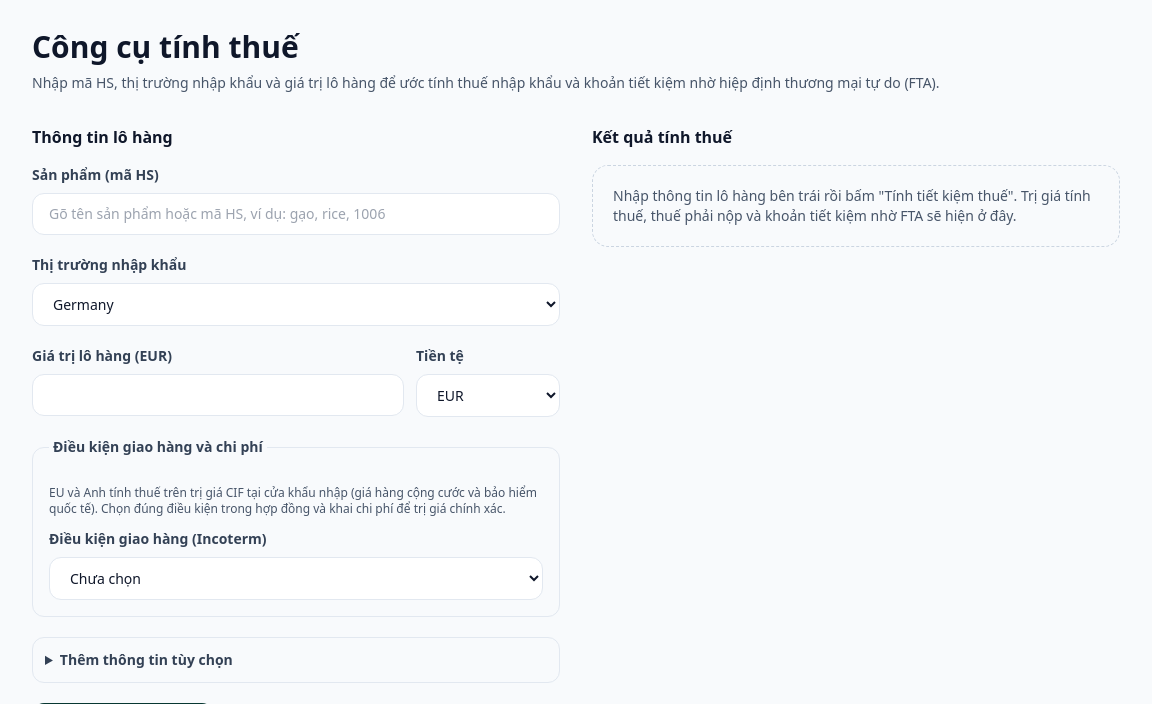
Test: Máy tính thuế: trị giá tính thuế (C2-A) › gửi Incoterm, cước, bảo hiểm và tiền tệ (chỉ khi khác EUR)
Type "ca tra" into the dropdown labelled "Sản phẩm (mã HS)". click: [296, 214]
box: [32,193,560,235]
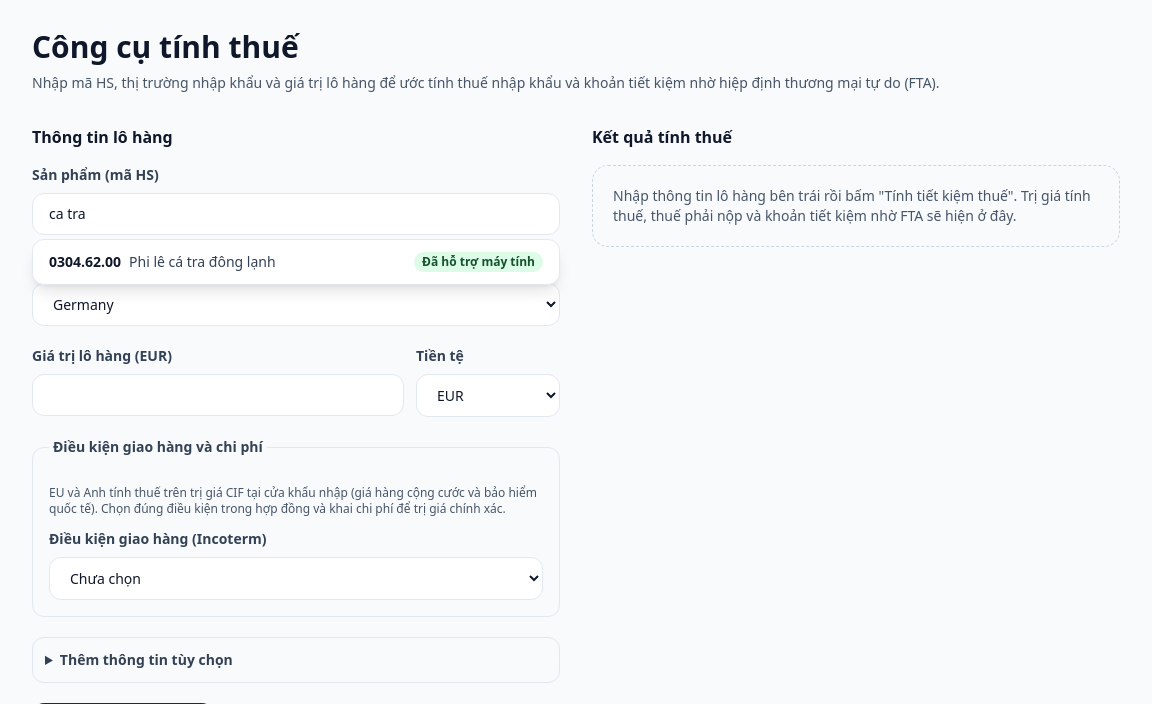
Click the option "0304.62.00Phi lê cá tra đông lạnh Đã hỗ trợ máy tính". click: [85, 262]
box: [49,252,543,272]
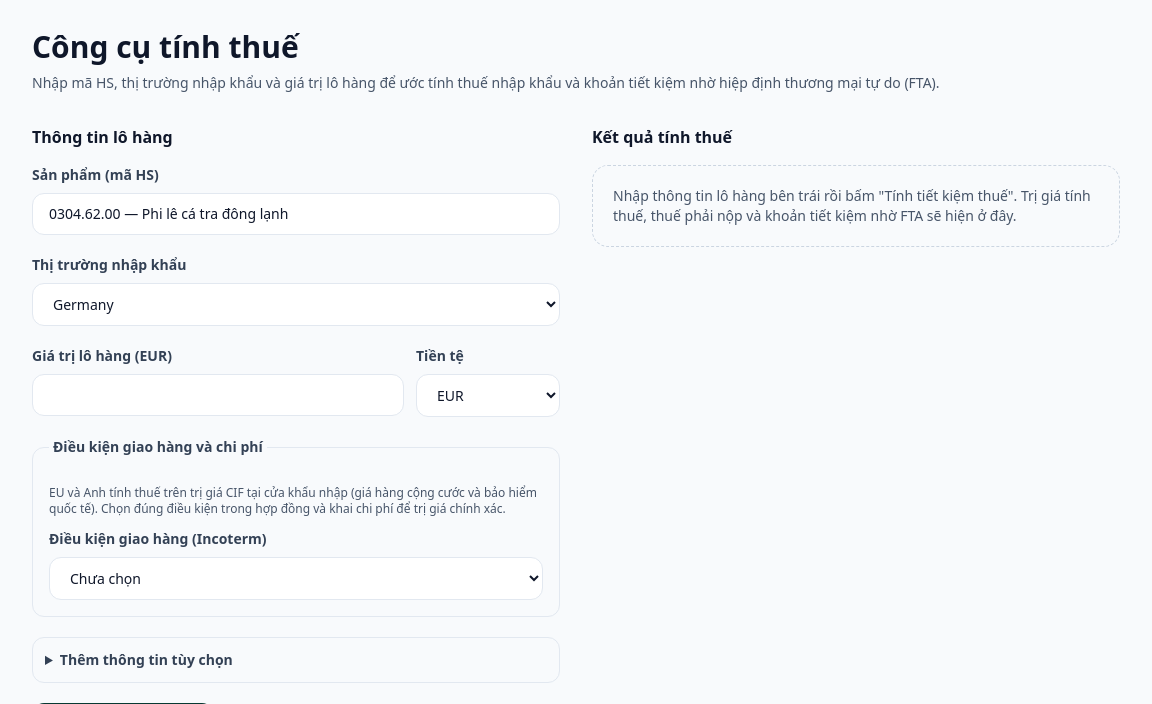
Type "100000" into the field labelled "Giá trị lô hàng (EUR)". click: [218, 395]
box: [32,374,404,416]
Select "USD" in the dropdown labelled "Tiền tệ". click: [488, 396]
box: [416,374,560,417]
Select "FOB — Giao lên tàu" in the dropdown labelled "Điều kiện giao hàng (Incoterm)". click: [296, 578]
box: [49,557,543,600]
(page scrolled)
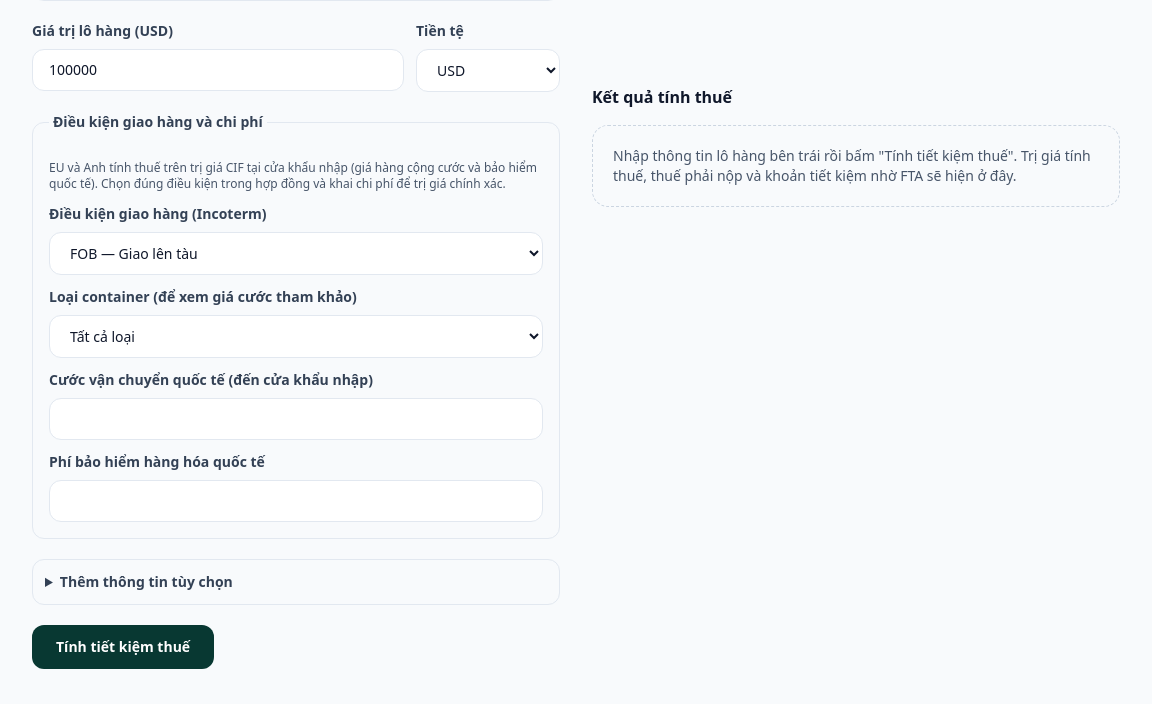
Type "3000" into the field labelled "Cước vận chuyển quốc tế (đến cửa khẩu nhập)". click: [296, 419]
box: [49,398,543,440]
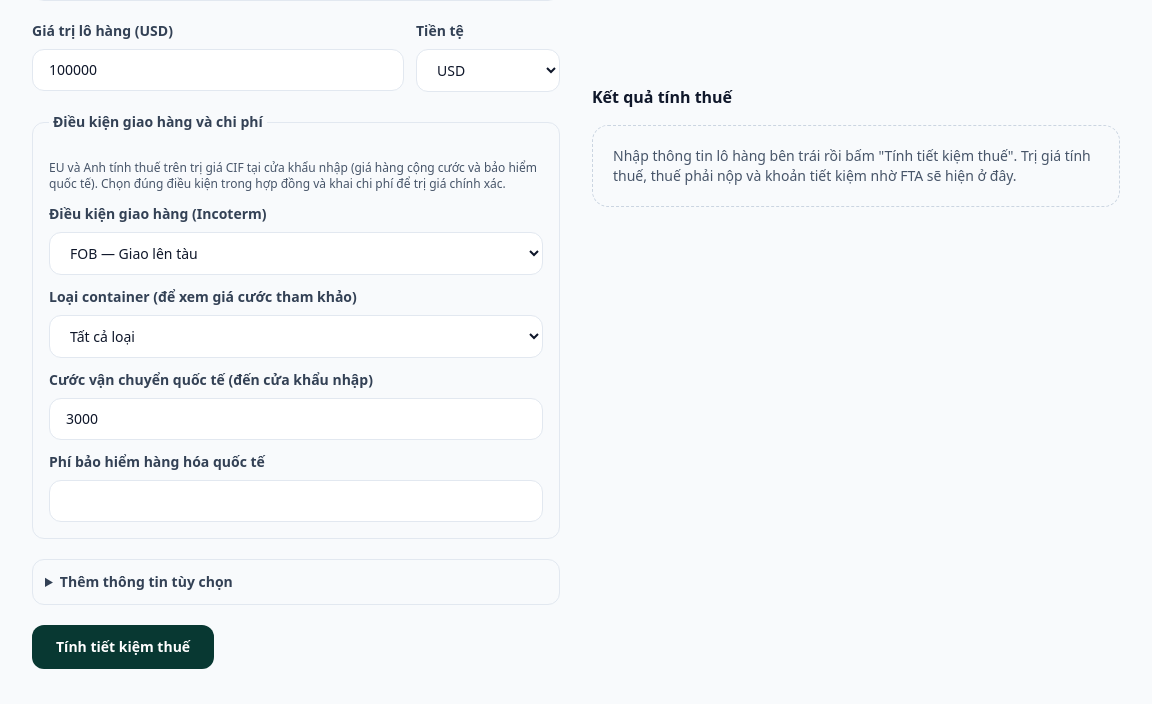
Type "500.50" into the field labelled "Phí bảo hiểm hàng hóa quốc tế". click: [296, 501]
box: [49,480,543,522]
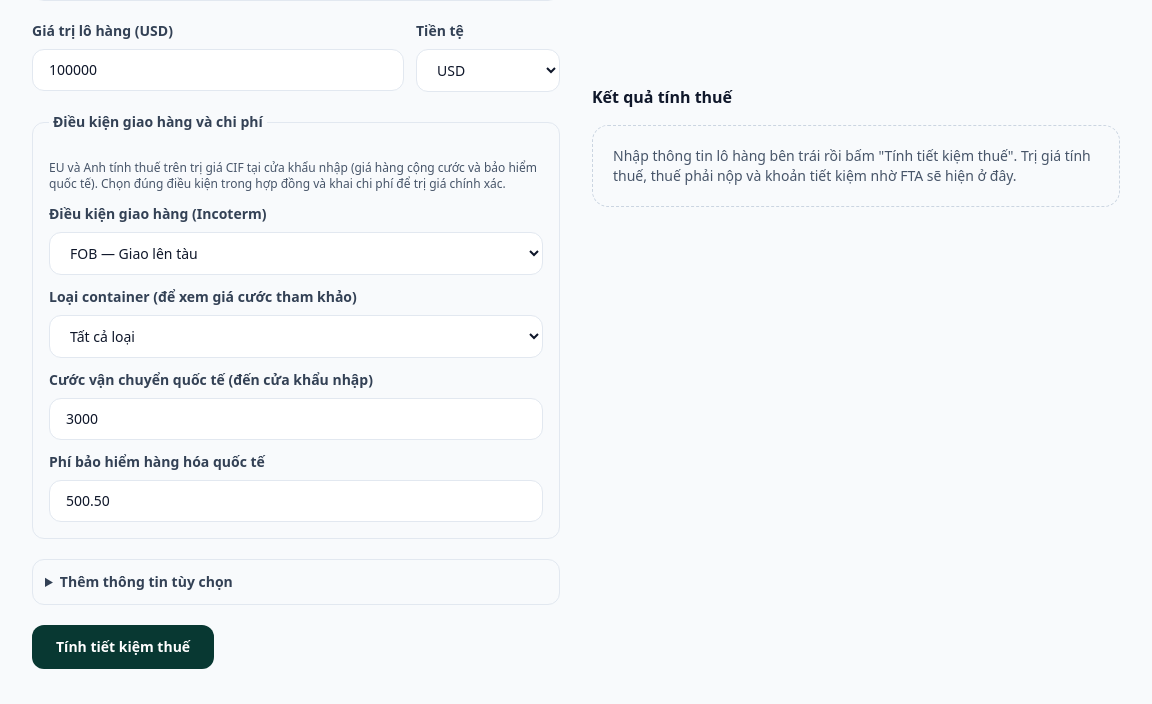
Click the button "Tính tiết kiệm thuế". click: [123, 647]
box: [32,625,214,669]
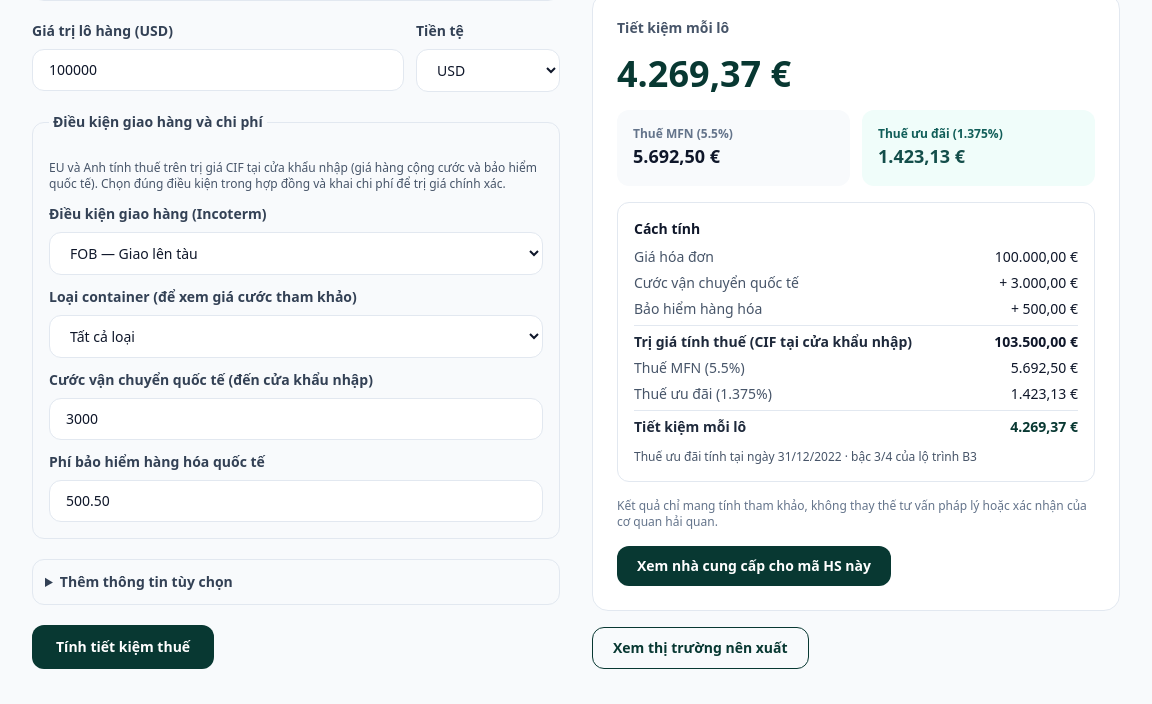
Now the element with test id "valuation-breakdown" is shown, box [617,202,1095,482]
